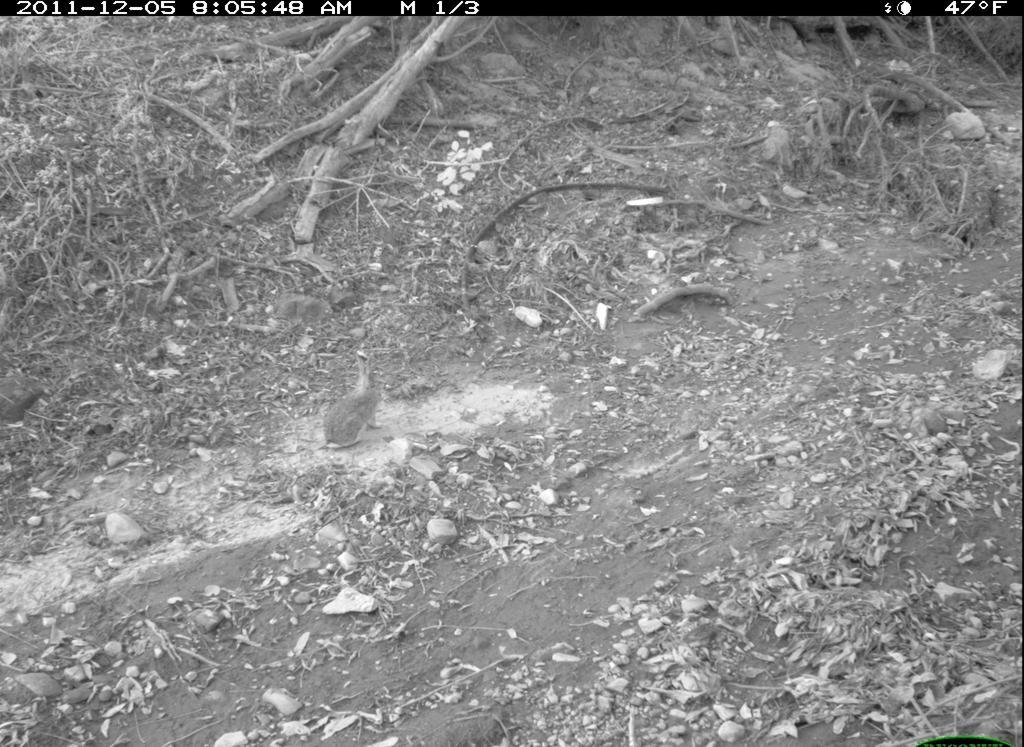rabbit: (308, 340, 401, 461)
